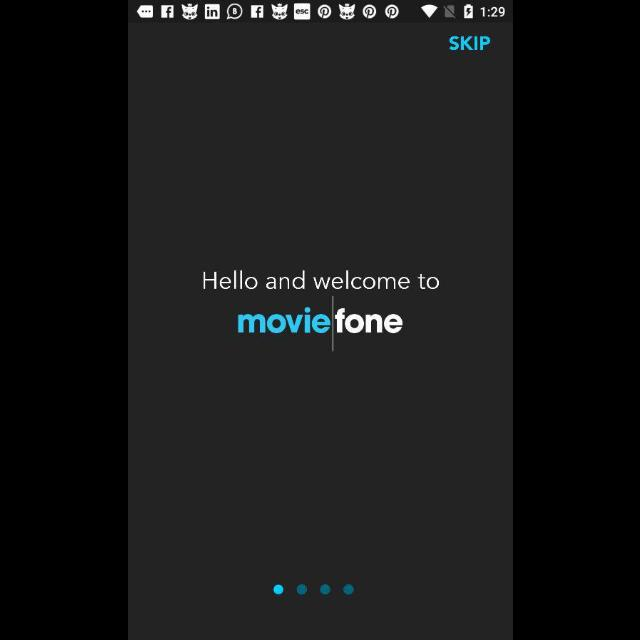image: (238, 296, 402, 352)
pageindicator: (272, 584, 356, 596)
text: (203, 270, 439, 290), (448, 36, 490, 52)
uppertaskbar: (128, 1, 512, 23)
